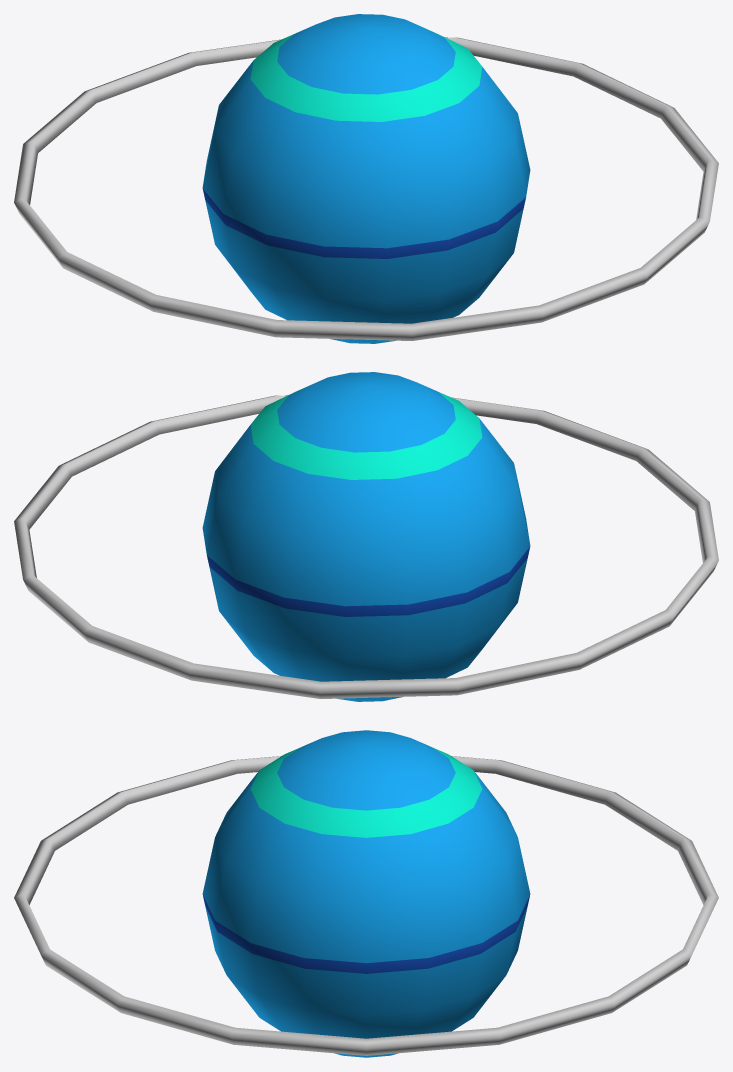
Rendered from 07_Urano.gltf.
3 views of the same model, one above another, from view 1: azimuth 30°, elevation 25°; view 2: azimuth 150°, elevation 25°; view 3: azimuth 270°, elevation 25° (orthographic).
Visible parts, largest first — view 1: 07_Urano; view 2: 07_Urano; view 3: 07_Urano.
Boxes of the visible parts, x1,y1,x2,y2 form: 07_Urano: (14,14,718,343); 07_Urano: (14,372,718,701); 07_Urano: (14,730,718,1057).
Size of the model in its own units: 1.39 by 0.6444 by 1.39.
1 material, 1 textured.
